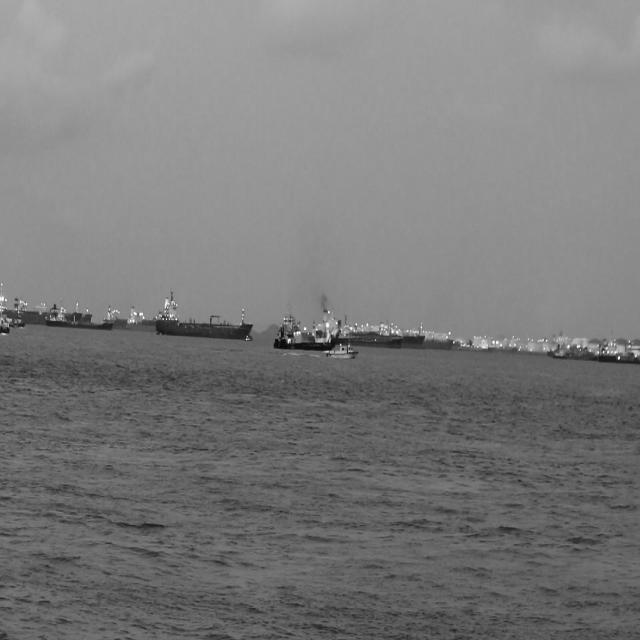boat: (279, 312, 349, 348)
ship: (154, 296, 262, 336), (10, 294, 97, 321), (338, 319, 410, 346), (51, 308, 124, 332), (110, 298, 166, 327), (1, 283, 22, 333), (560, 344, 629, 358), (319, 336, 359, 356), (428, 326, 461, 350), (410, 318, 434, 349), (600, 347, 639, 361)
